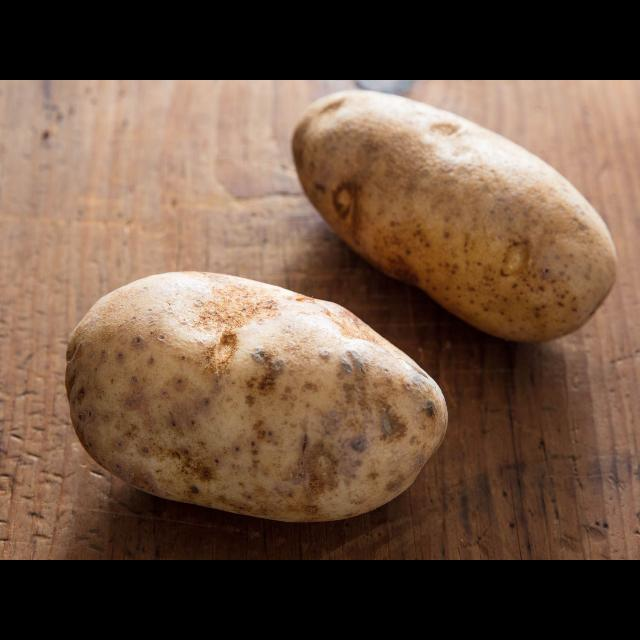Diseased-fungal potato: (65, 266, 453, 528), (290, 87, 618, 349)
